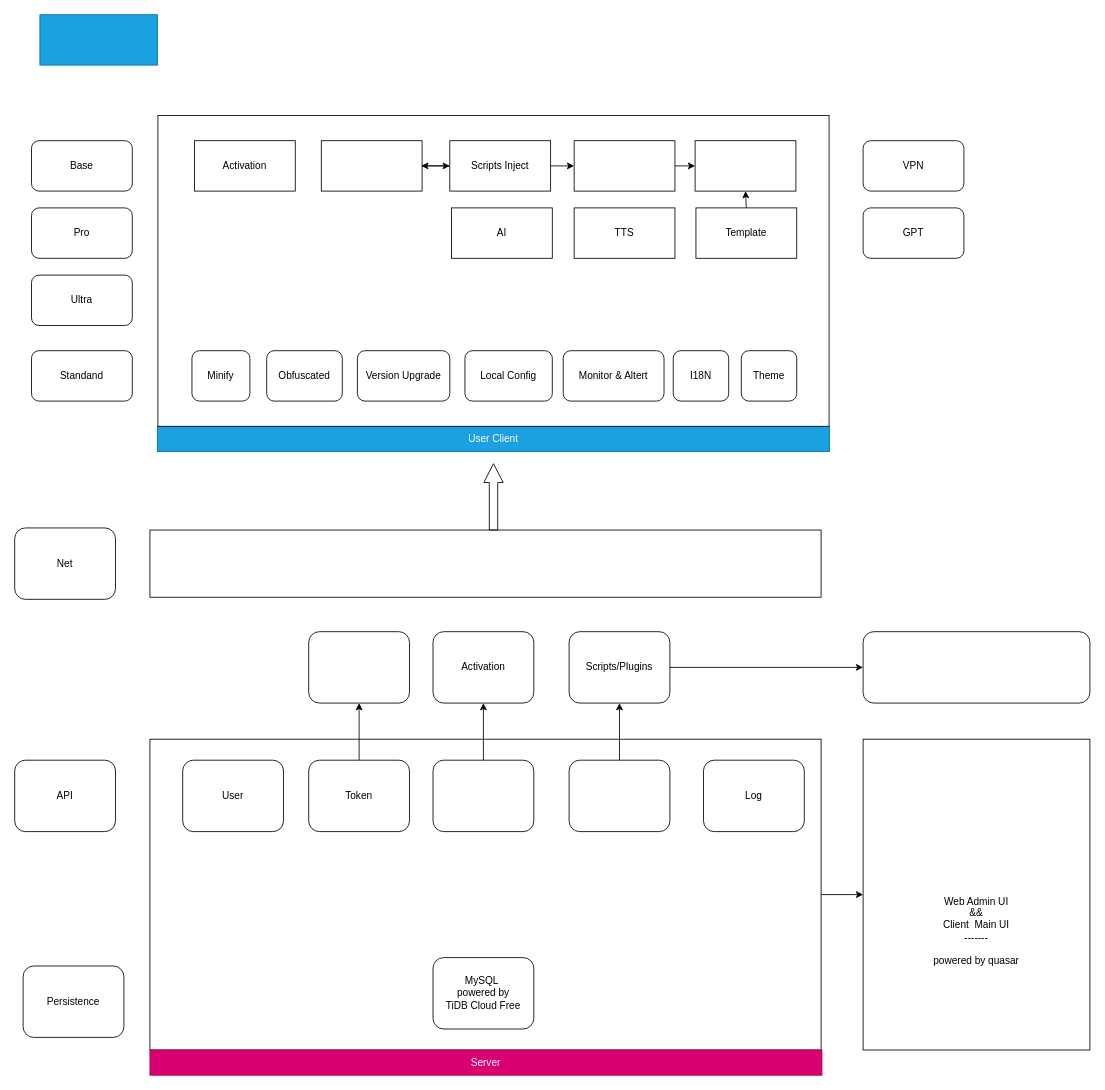
Some shapes in this 1105 by 1090 pixel diagram are drawn without their labels. The box of each missing label's shape, as (x1, y1, x2, y2) in pixels:
Actions: (573, 140, 675, 191)
Auth: (308, 631, 410, 703)
Https + Content Encryp 2nd(Optional): (149, 529, 821, 597)
License: (432, 759, 534, 832)
OBS: (694, 140, 796, 191)
powered by goframe: (149, 738, 821, 1050)
powered by quasar and electron: (157, 115, 829, 426)
Scripts Online: (320, 140, 422, 191)
Setting: (568, 759, 670, 832)
TikTok / Douyin / Kuaishou/... more: (862, 631, 1090, 703)
架构拓扑: (39, 14, 158, 65)
